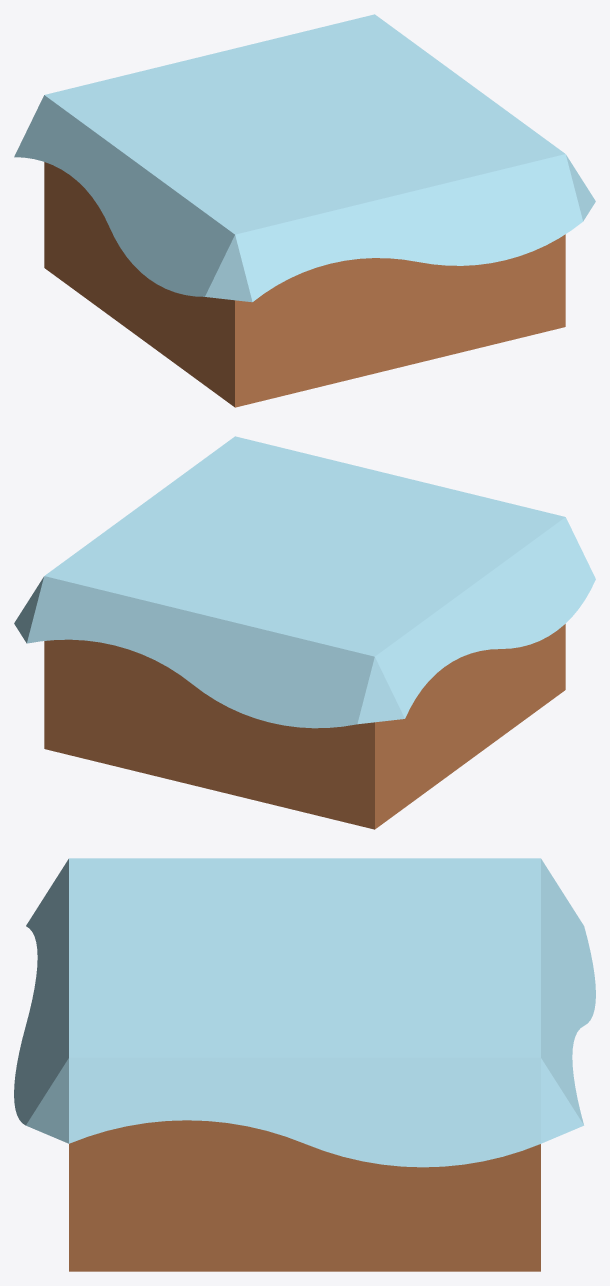
File: blockSnowHalf.obj
3 renders of one model, top to bottom at view 1: azimuth 30°, elevation 25°; view 2: azimuth 150°, elevation 25°; view 3: azimuth 270°, elevation 25°, orthographic. The views are drawn at different scales.
Parts seen in each view (by area): view 1: blockSnowHalf; view 2: blockSnowHalf; view 3: blockSnowHalf.
Part boxes in pixels (x1,y1,x2,y2): blockSnowHalf: [14, 14, 595, 407]; blockSnowHalf: [14, 436, 595, 829]; blockSnowHalf: [14, 858, 595, 1271].
Size of the model in its own units: 1.23 by 0.5 by 1.23.
